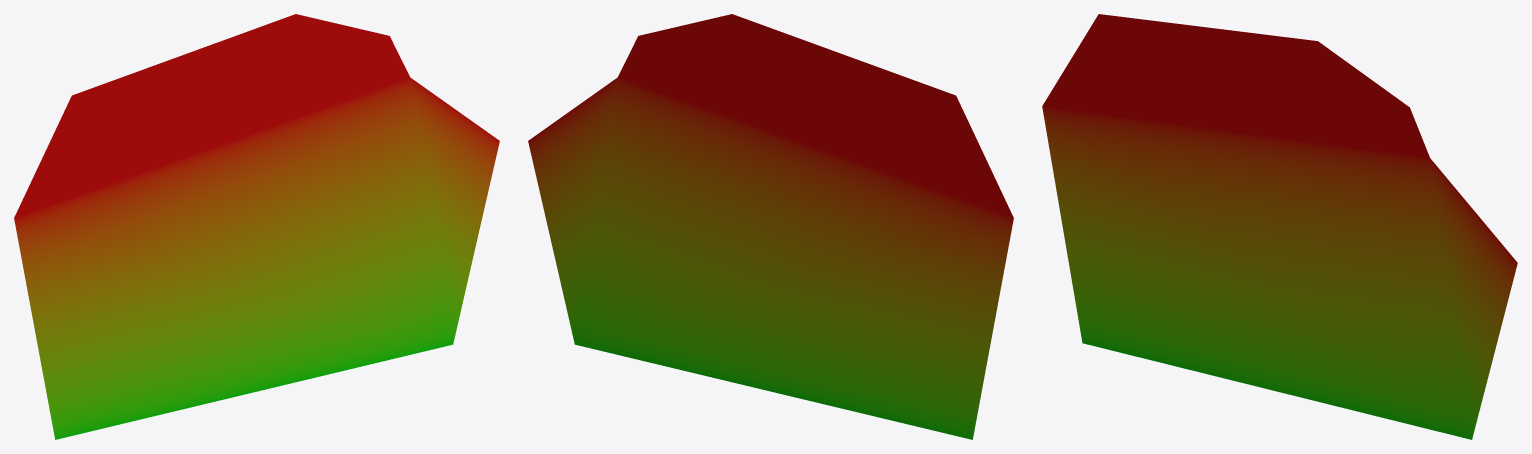
Rendered from Softstem Bulrush_LOD3_Var9_uehjcafia.fbx.
3 renders of one model, left to right at view 1: azimuth 30°, elevation 25°; view 2: azimuth 150°, elevation 25°; view 3: azimuth 330°, elevation 25°, orthographic. The views are drawn at different scales.
Parts seen in each view (by area): view 1: _47ea_Var9_LOD3; view 2: _47ea_Var9_LOD3; view 3: _47ea_Var9_LOD3.
Boxes of the visible parts, <box> form: _47ea_Var9_LOD3: <box>14,14,499,439</box>; _47ea_Var9_LOD3: <box>528,14,1013,439</box>; _47ea_Var9_LOD3: <box>1042,14,1517,439</box>.
Bounding box in the file's own units: 305 × 222 × 1.29e-05.
